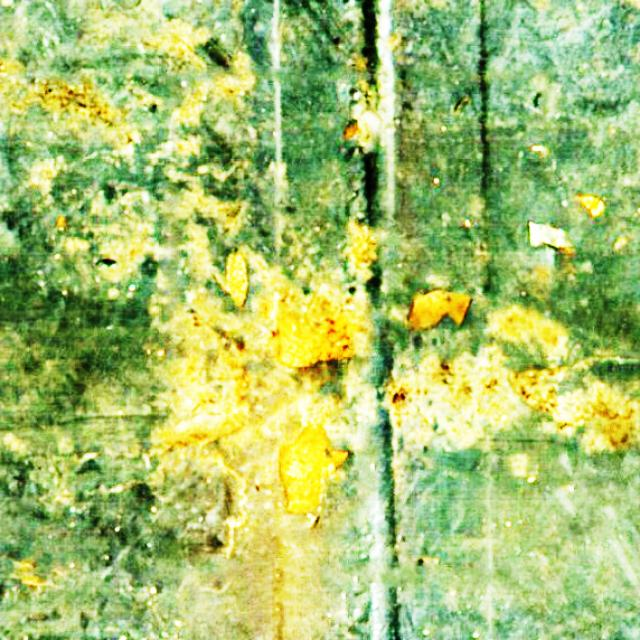Corrosion: (264, 289, 375, 366), (280, 427, 345, 515), (346, 81, 390, 147), (408, 292, 472, 329), (226, 361, 252, 415), (527, 224, 566, 250), (227, 254, 247, 304), (352, 228, 374, 267), (579, 196, 604, 214)
